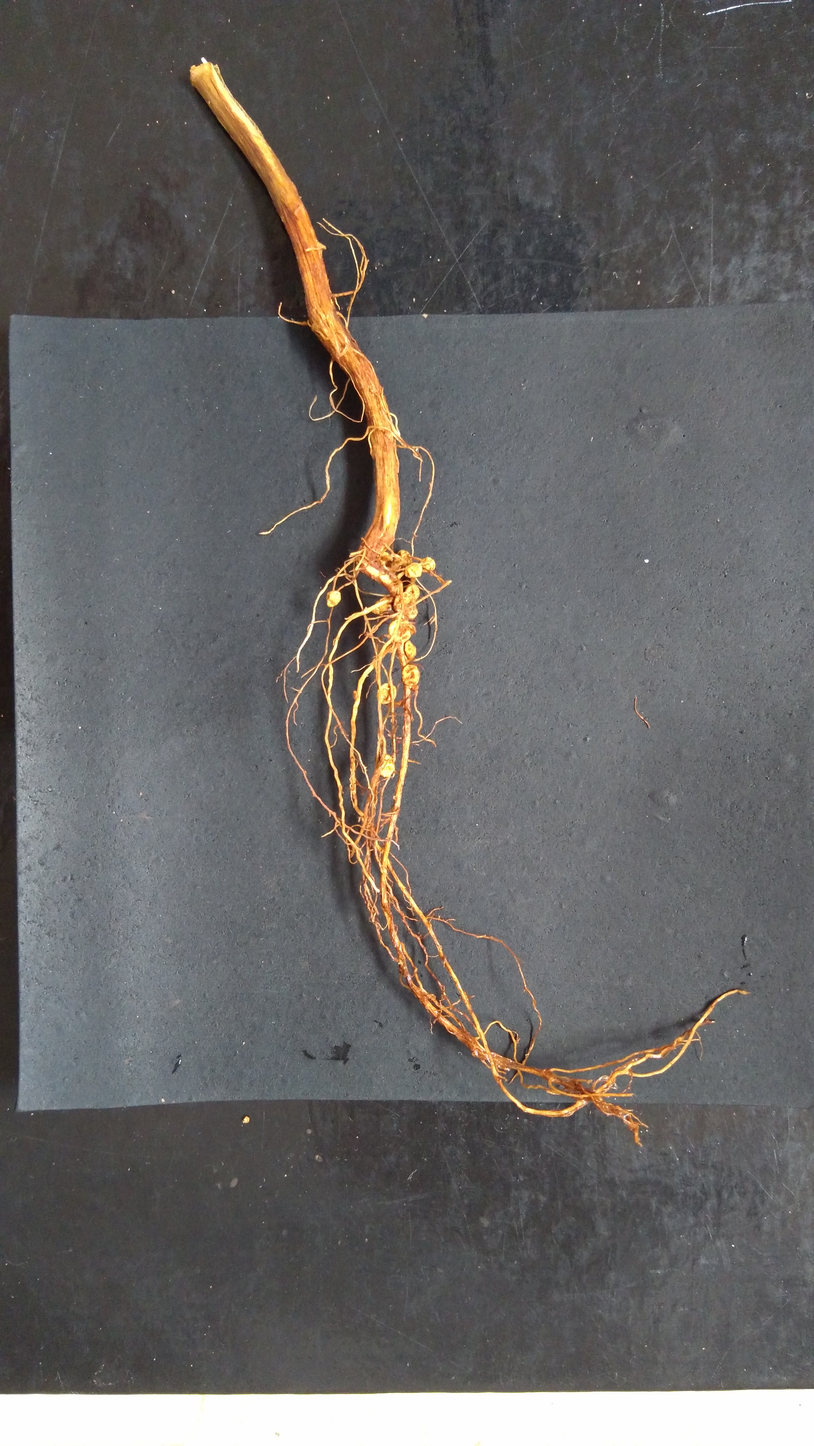nodule: (387, 620, 416, 644), (374, 682, 399, 705), (400, 663, 422, 688), (377, 753, 397, 780), (371, 595, 394, 617), (395, 599, 419, 620), (403, 639, 419, 661), (325, 589, 342, 608), (403, 562, 423, 578), (405, 583, 421, 602), (419, 556, 437, 572), (396, 549, 412, 563), (401, 590, 413, 605), (352, 689, 359, 701)
